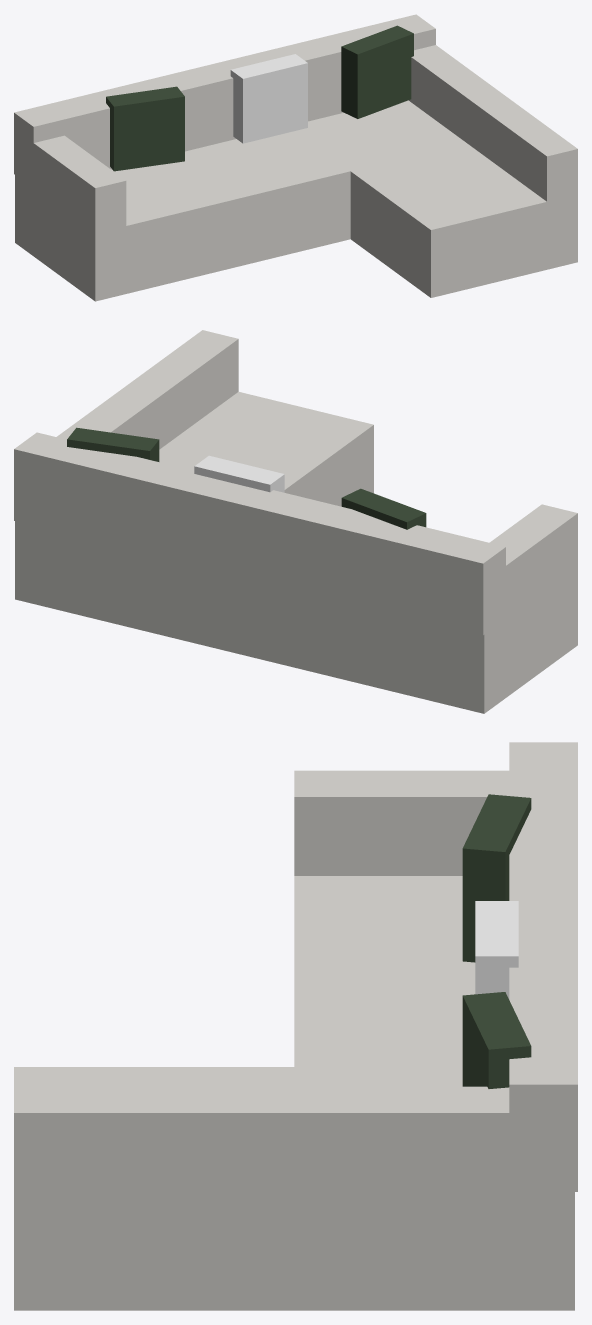
Rendered from archviz_sofa_l_shape.glb.
3 views of the same model, one above another, from view 1: azimuth 30°, elevation 25°; view 2: azimuth 150°, elevation 25°; view 3: azimuth 270°, elevation 25° (orthographic). The views are drawn at different scales.
Bounding box in the file's own units: 2.6 × 0.84 × 1.81.
